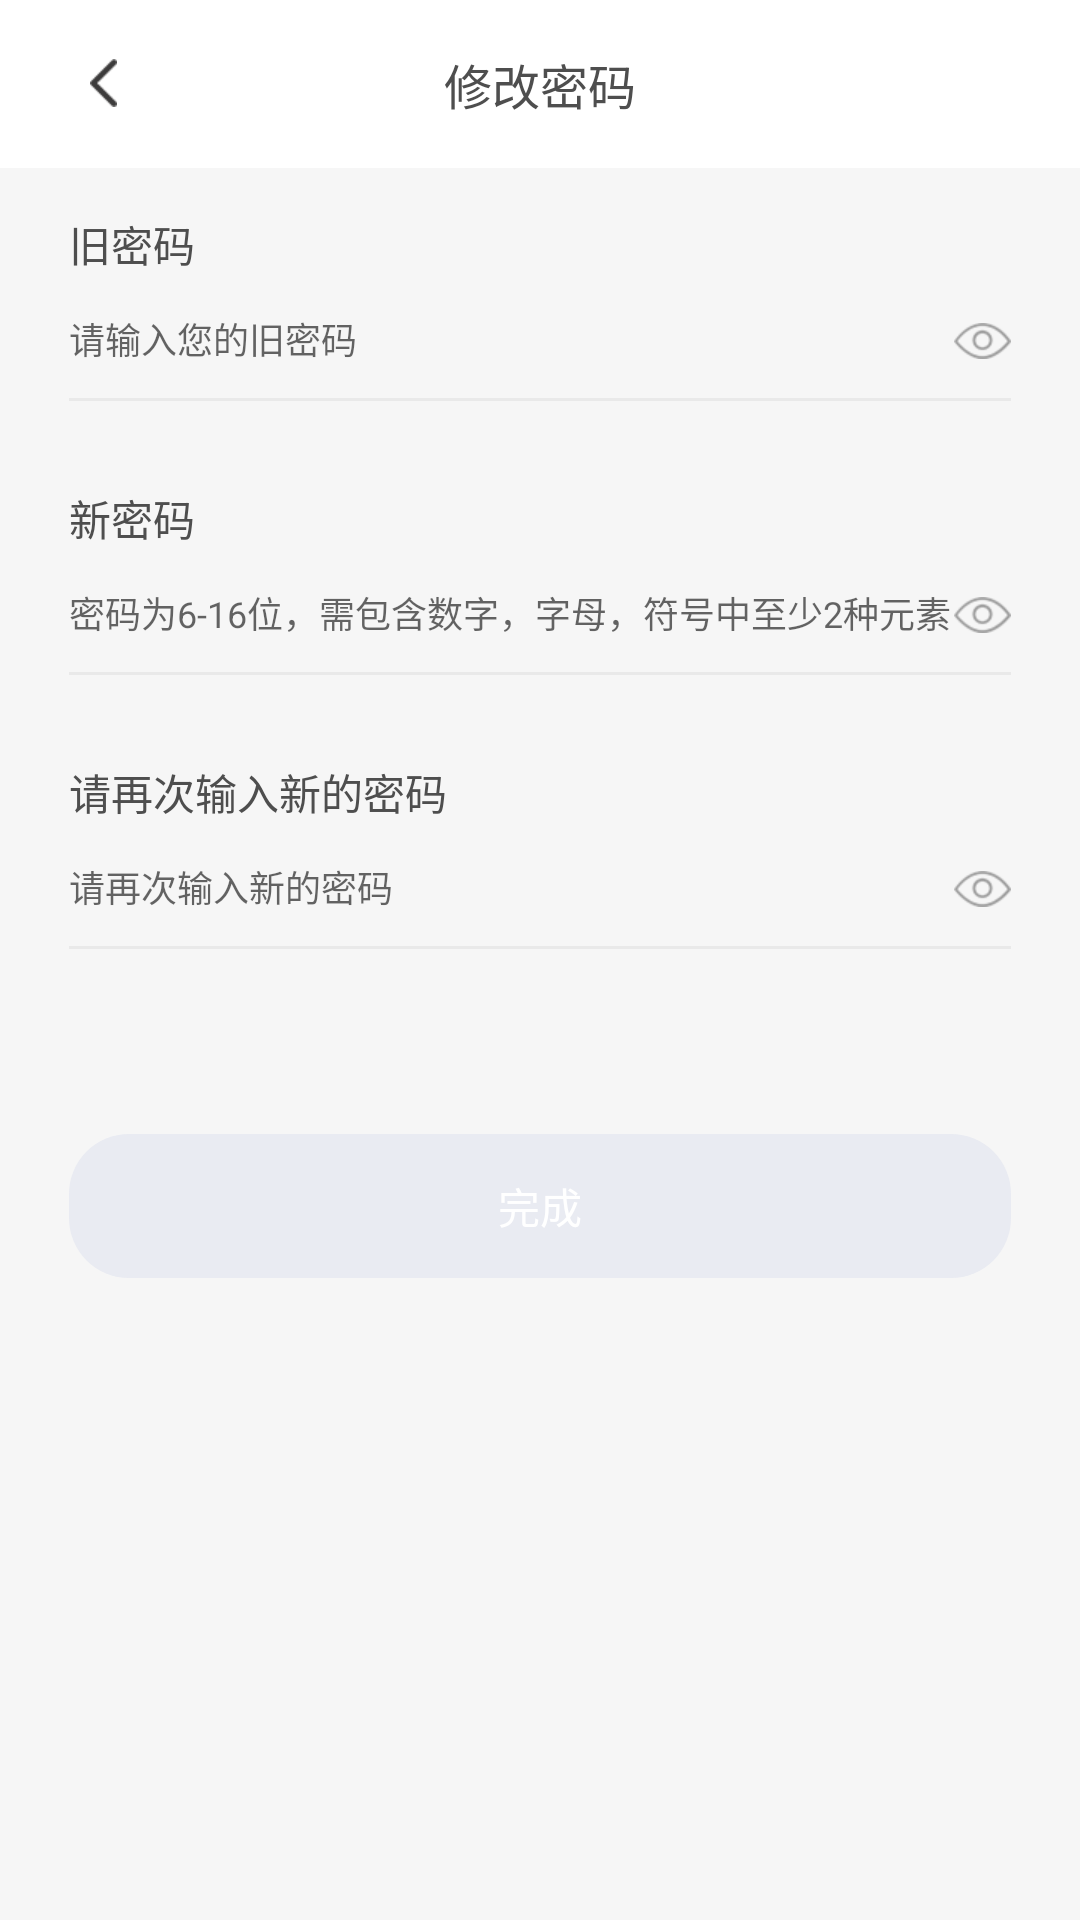

Icons on this 1080*1920 Android screen, each with the point to tap as (x,y):
back: (103,83)
eye see password: (982,341), (982,615), (982,889)
